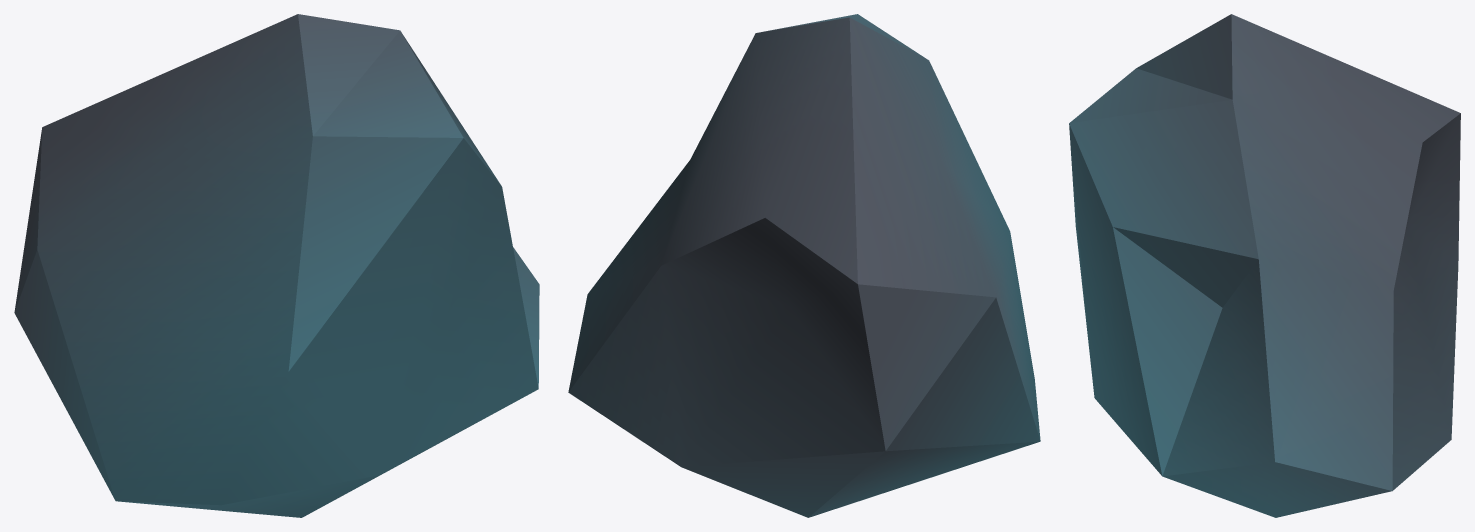
The model's file is Stone_Small_1b.fbx.
The picture shows the model from 3 angles, left to right: view 1: azimuth 30°, elevation 25°; view 2: azimuth 150°, elevation 25°; view 3: azimuth 270°, elevation 25°; orthographic projection. The views are drawn at different scales.
Parts seen in each view (by area): view 1: Stone_Small_1b; view 2: Stone_Small_1b; view 3: Stone_Small_1b.
Boxes of the visible parts, x1,y1,x2,y2 form: Stone_Small_1b: (14,14,539,517); Stone_Small_1b: (568,14,1040,517); Stone_Small_1b: (1069,14,1460,517).
Size of the model in its own units: 3.02 by 3.2 by 2.32.
